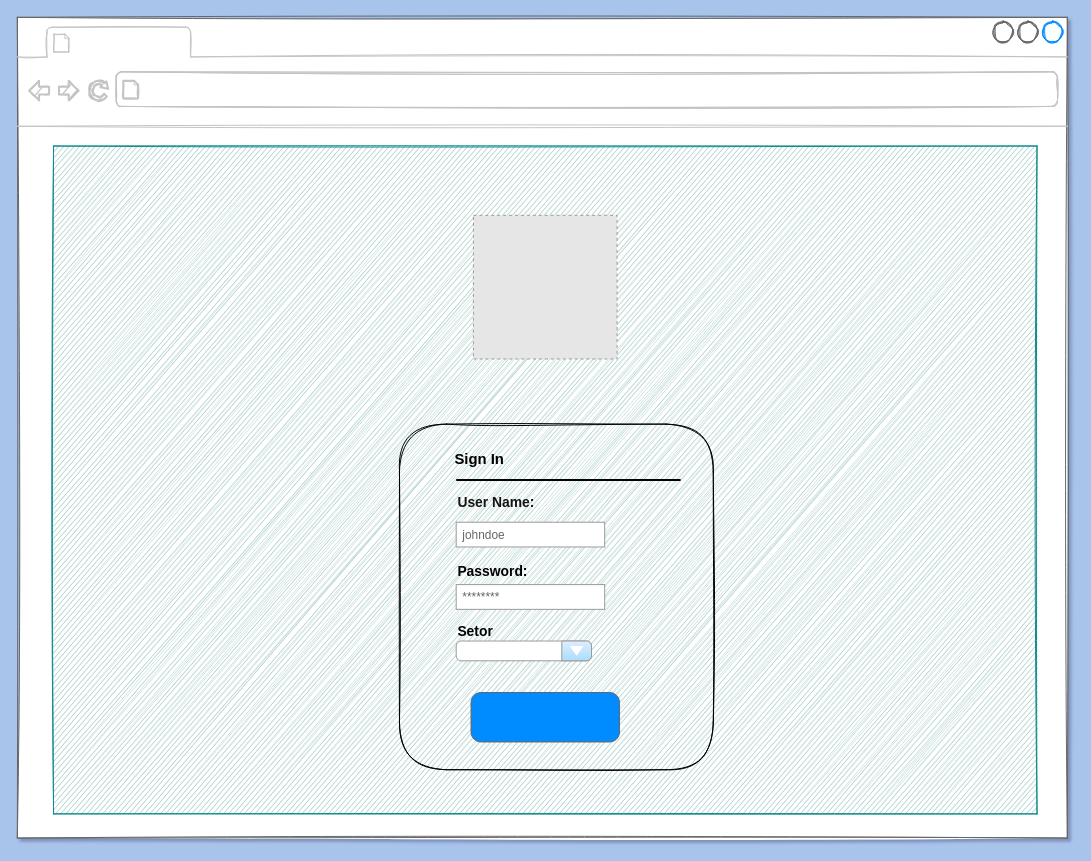
Some shapes in this 1091 by 861 pixel diagram are drawn without their labels. Grey dashed boxes stand in for pictures. Here are the shapes that lost their labels. From the top down, the centre of each, then its label:
the point at 155,47: Page 1
the point at 523,650: Option 1
the point at 545,717: Acessar
